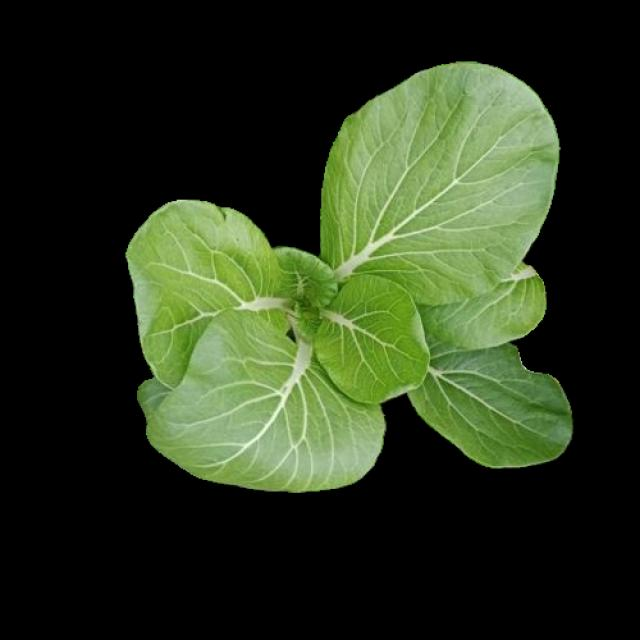healthy: (128, 60, 572, 483)
mature: (130, 63, 574, 485)
